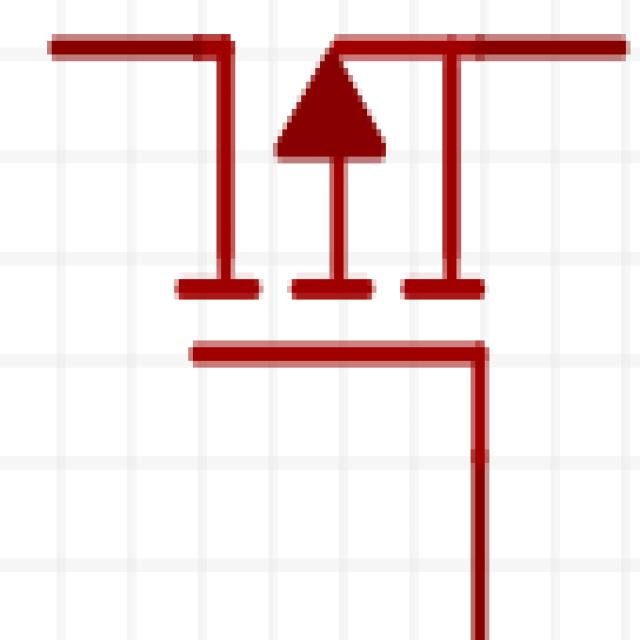pmos: (51, 0, 622, 640)
